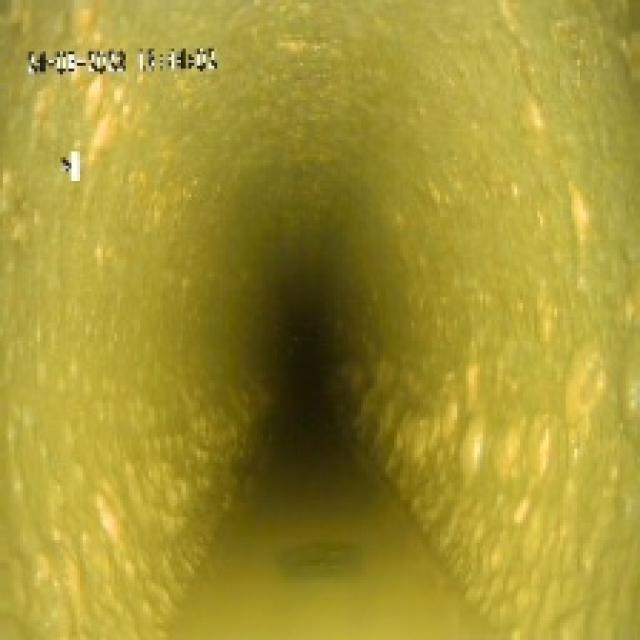encrustation: (366, 143, 626, 568), (63, 397, 263, 534)
